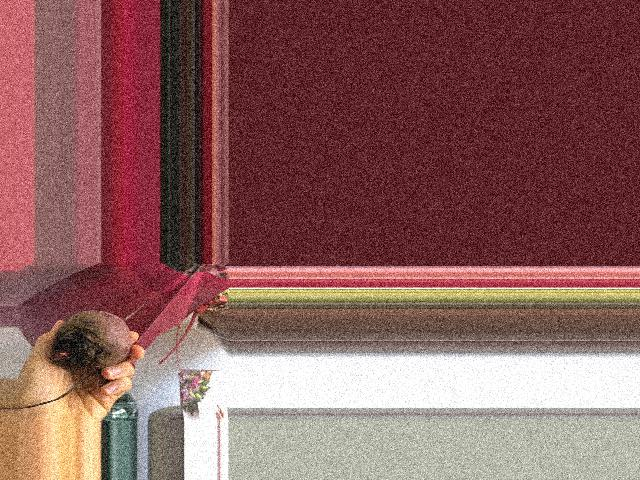beet: (18, 299, 147, 409)
